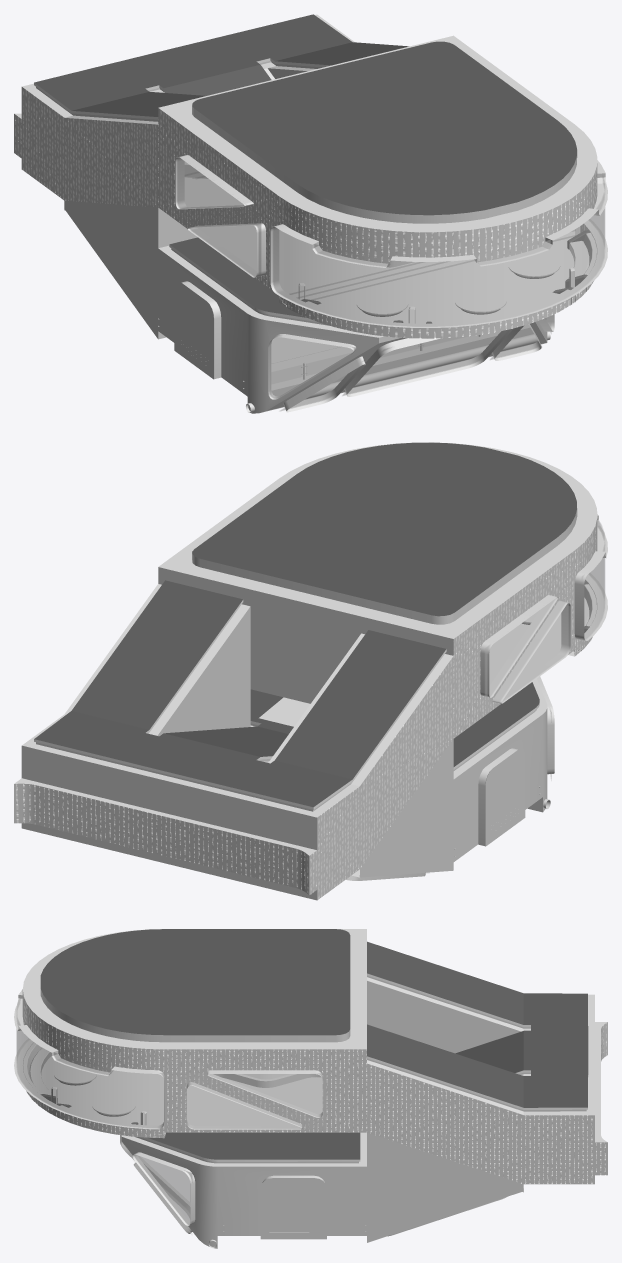
Rendered from vr_metaverse_spaceship_interior_09.glb.
The picture shows the model from 3 angles, top to bottom: view 1: azimuth 30°, elevation 25°; view 2: azimuth 150°, elevation 25°; view 3: azimuth 270°, elevation 25°; orthographic projection. The views are drawn at different scales.
Visible parts, largest first — view 1: Base, Window_02, Window_01, Couches, Railing_02, Table.002, Table.001, Table, Stairs; view 2: Base, Window_02; view 3: Base, Window_02, Window_01, Couches, Design_Part, Table, Table.001.
Part boxes in pixels (box(x1,y1,x2,y2)): Base: box(14, 14, 607, 413); Window_02: box(175, 153, 604, 326); Window_01: box(269, 316, 551, 410); Couches: box(301, 230, 596, 323); Railing_02: box(242, 335, 480, 389); Table.002: box(356, 292, 408, 316); Table.001: box(455, 290, 506, 314); Table: box(508, 254, 560, 278); Stairs: box(64, 169, 224, 210); Base: box(14, 442, 607, 900); Window_02: box(485, 519, 604, 714); Base: box(14, 929, 607, 1248); Window_02: box(16, 996, 326, 1128); Window_01: box(122, 1142, 192, 1235); Couches: box(23, 1042, 138, 1124); Design_Part: box(213, 1074, 320, 1087); Table: box(92, 1096, 135, 1116); Table.001: box(54, 1065, 96, 1085).
Size of what is drawn, in the model's own units: 21.24 by 16 by 41.7.
3 materials, 2 textured.
